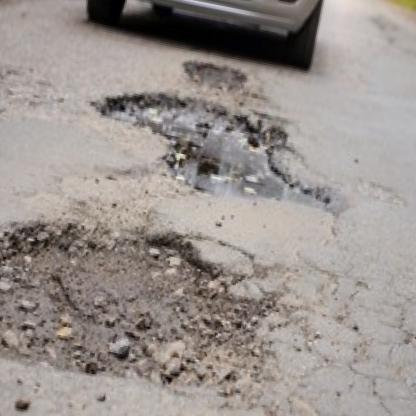pothole: (0, 193, 283, 414), (80, 77, 359, 218), (176, 56, 252, 97)
